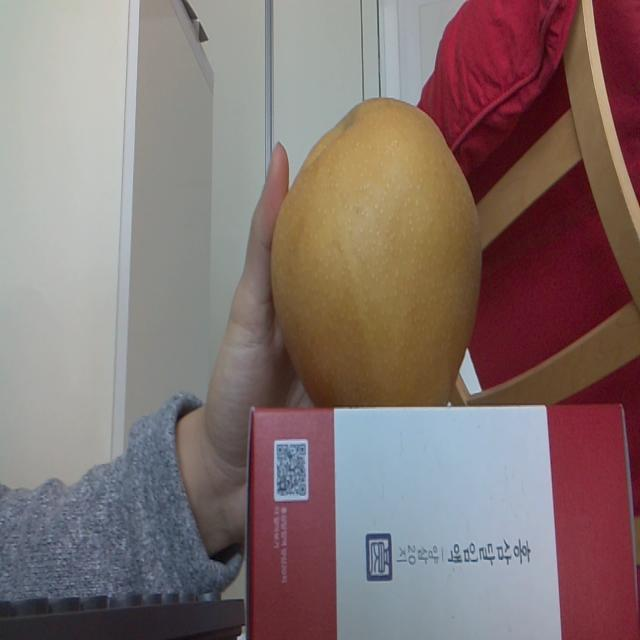pear: (271, 98, 483, 408)
